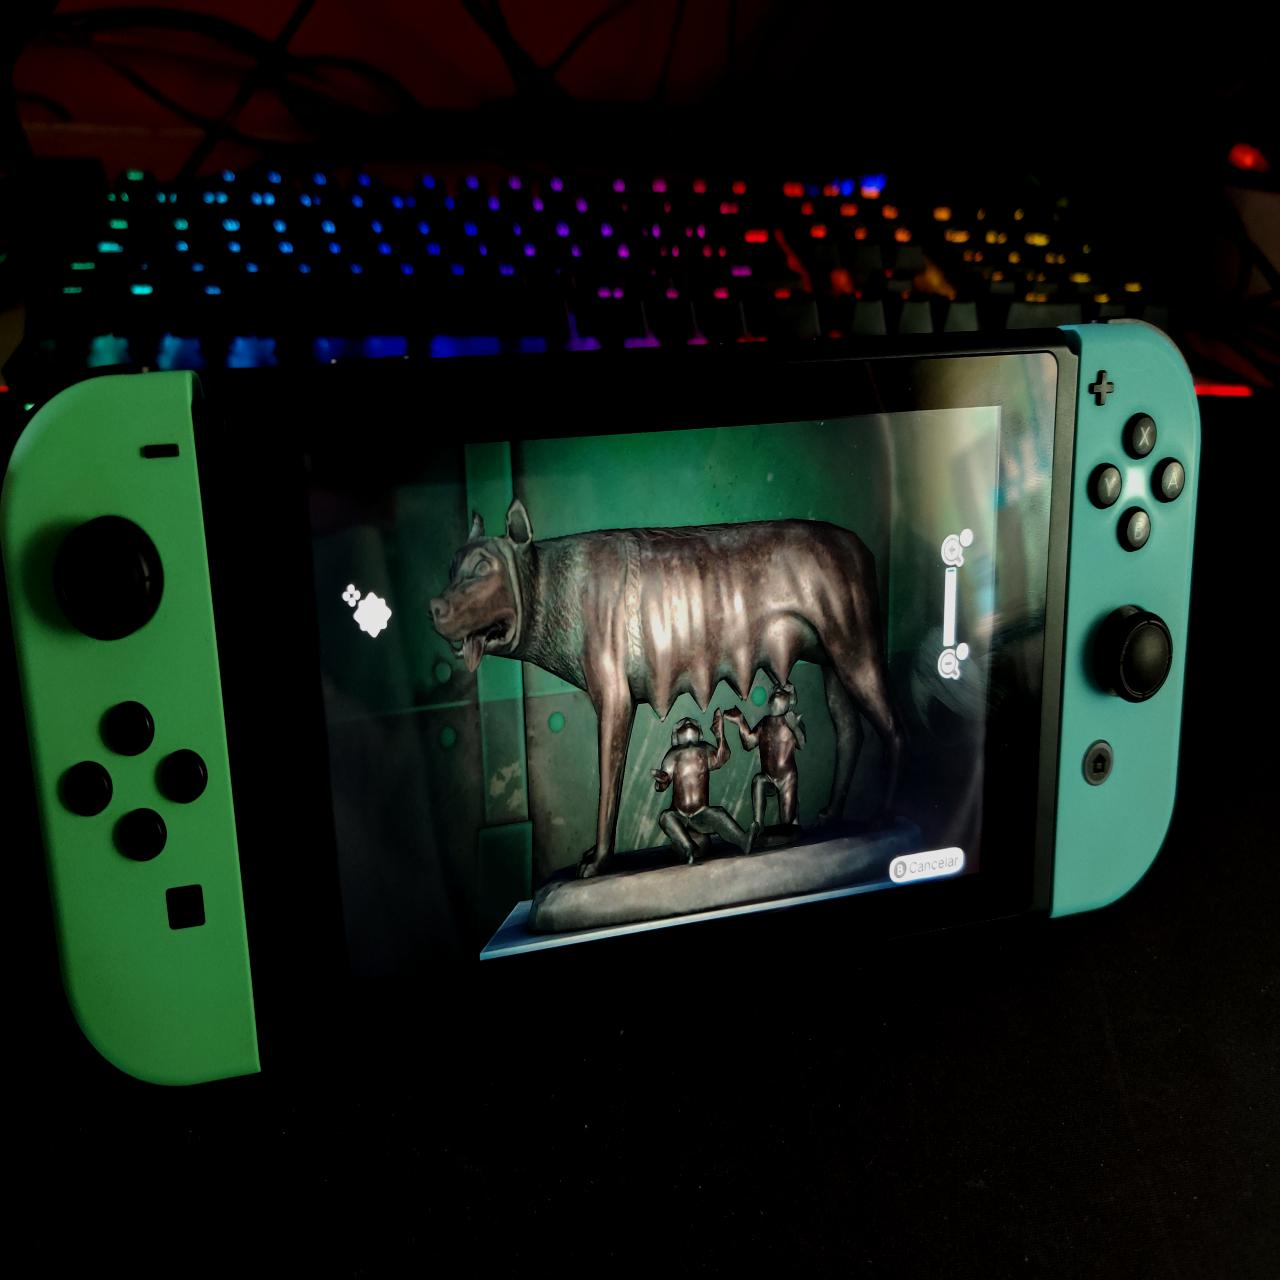CapitoliniFake: (430, 501, 937, 883)
